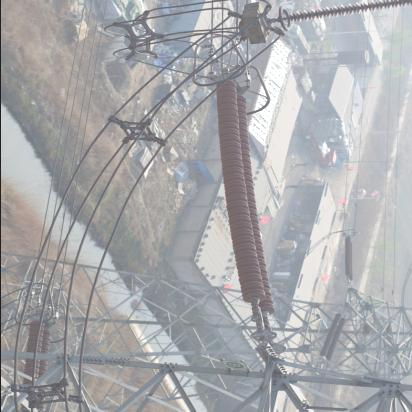insulator: (216, 74, 280, 328)
